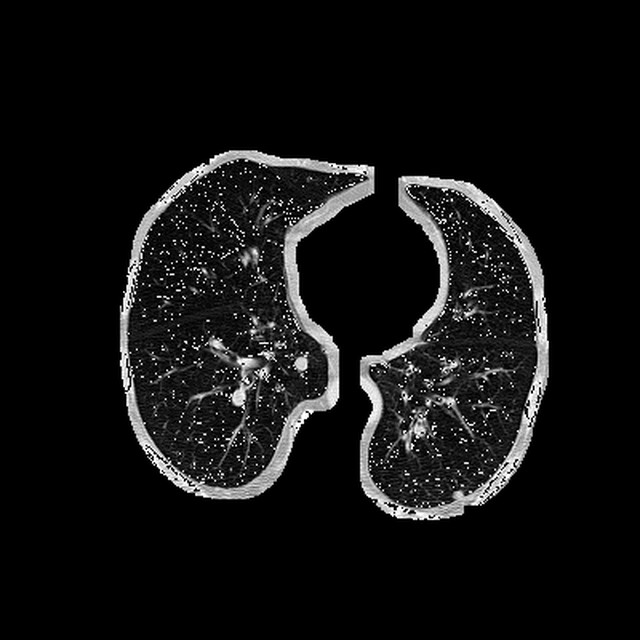PN: (293, 355, 309, 371)
